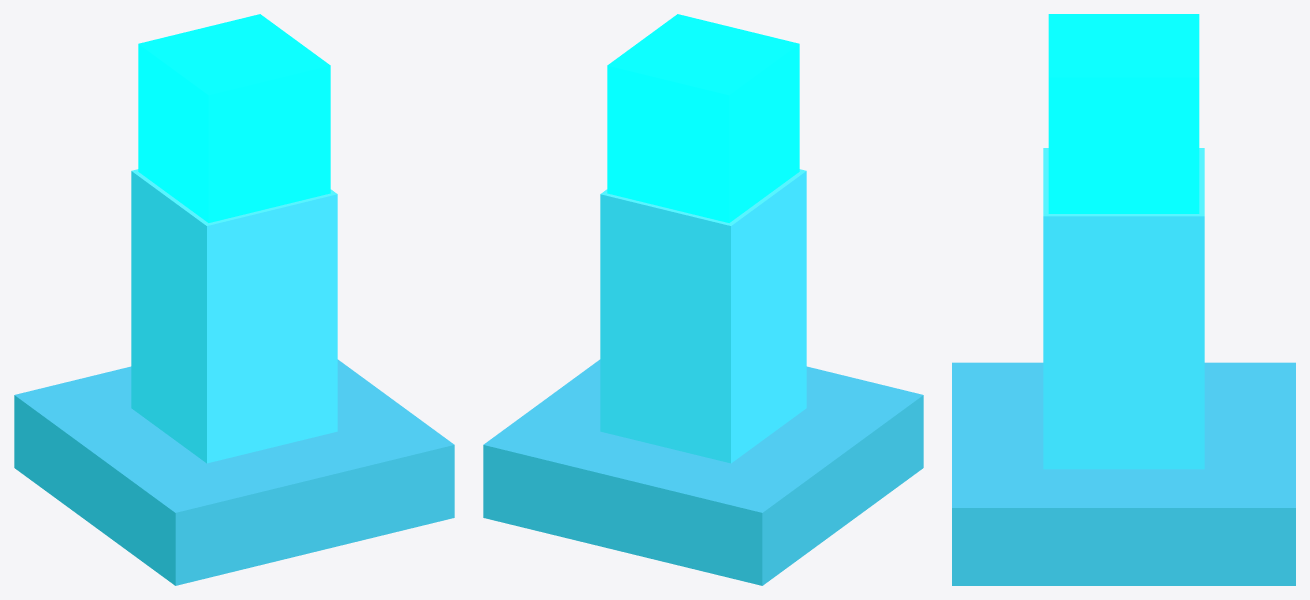
File: turret_prisma.glb
3 renders of one model, left to right at view 1: azimuth 30°, elevation 25°; view 2: azimuth 150°, elevation 25°; view 3: azimuth 270°, elevation 25°, orthographic. The views are drawn at different scales.
Parts seen in each view (by area): view 1: Base, Pillar, Weapon; view 2: Base, Pillar, Weapon; view 3: Base, Pillar, Weapon.
Boxes of the visible parts, x1,y1,x2,y2 form: Base: (14,359,454,585); Pillar: (131,169,337,463); Weapon: (138,14,330,222); Base: (483,359,923,585); Pillar: (600,169,806,463); Weapon: (607,14,799,222); Base: (952,362,1295,585); Pillar: (1043,148,1204,469); Weapon: (1048,14,1199,213).
Bounding box in the file's own units: 1.6 × 2.4 × 1.6.
